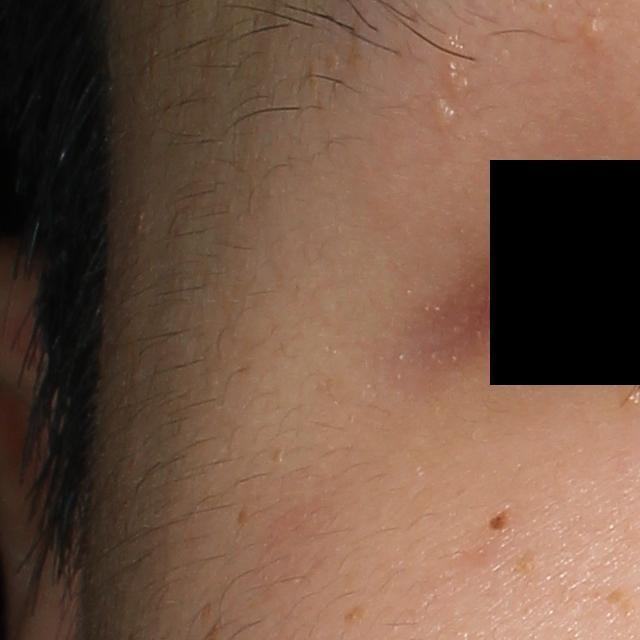comedo: (580, 20, 607, 48)
melasma: (601, 588, 635, 615), (343, 604, 367, 625), (236, 503, 252, 526)
nevus: (487, 503, 512, 533)
other: (427, 95, 455, 130)
